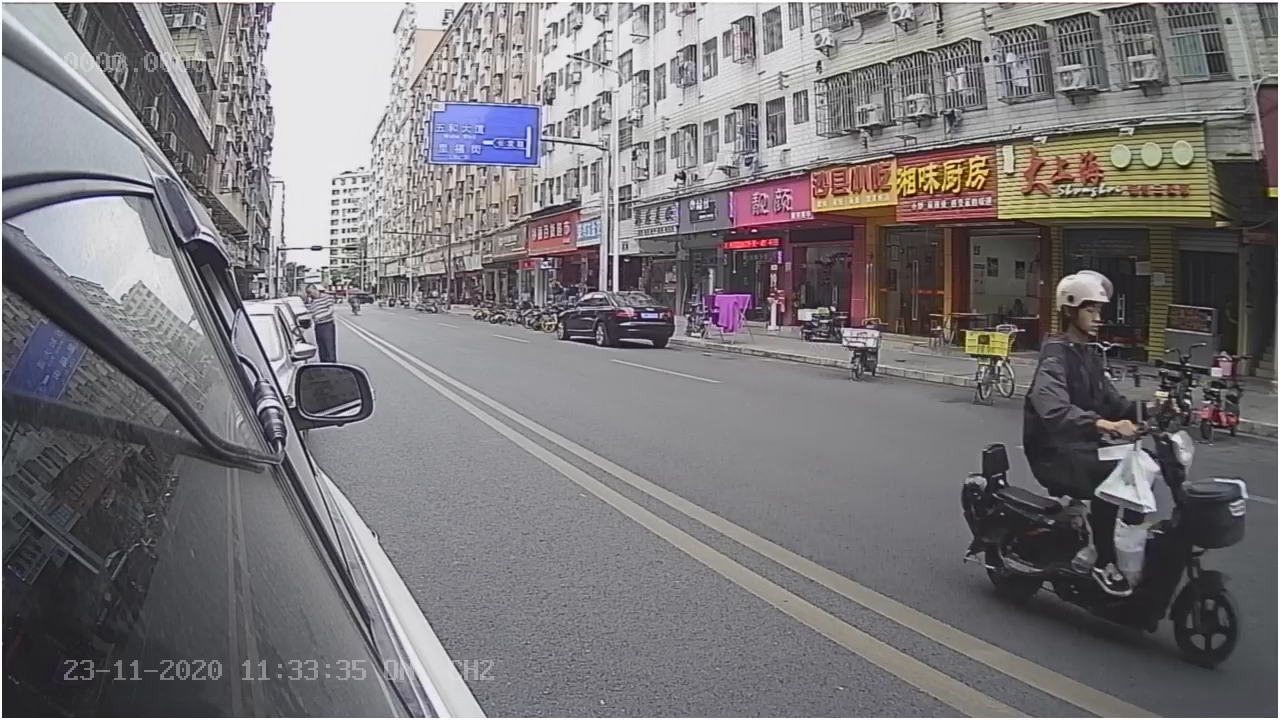person: (1024, 265, 1167, 430)
